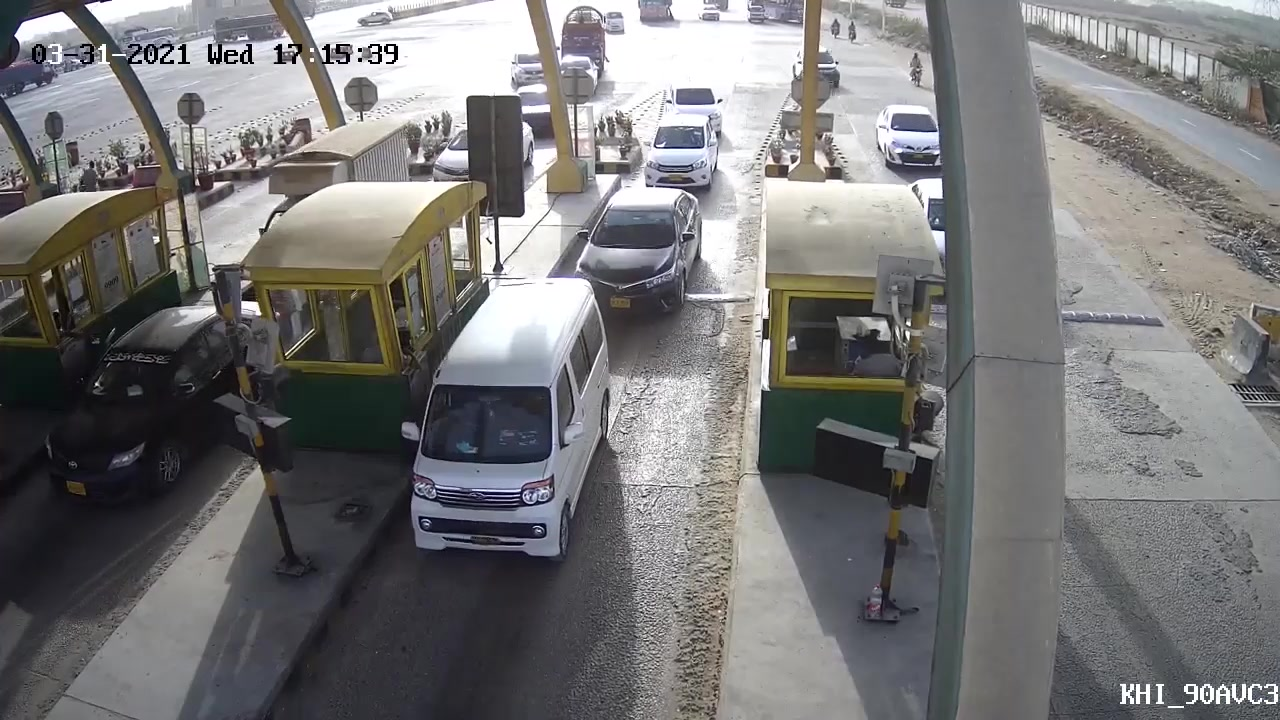F1: (400, 278, 613, 582), (574, 182, 702, 315)
